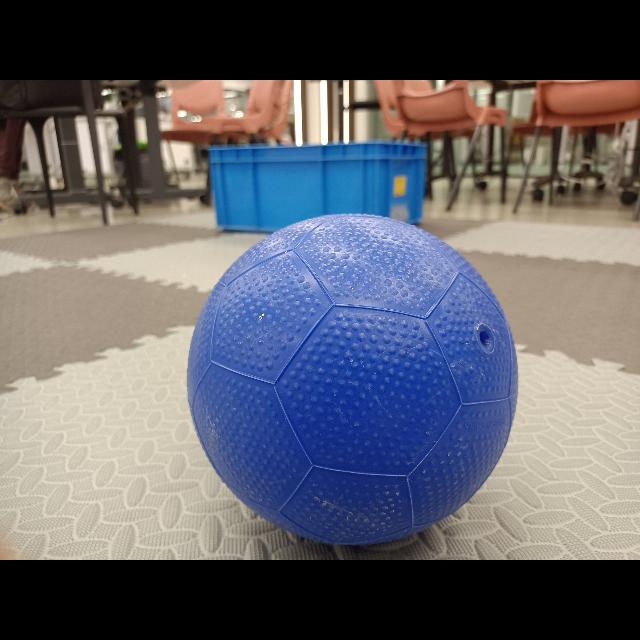B: (193, 209, 521, 547)
